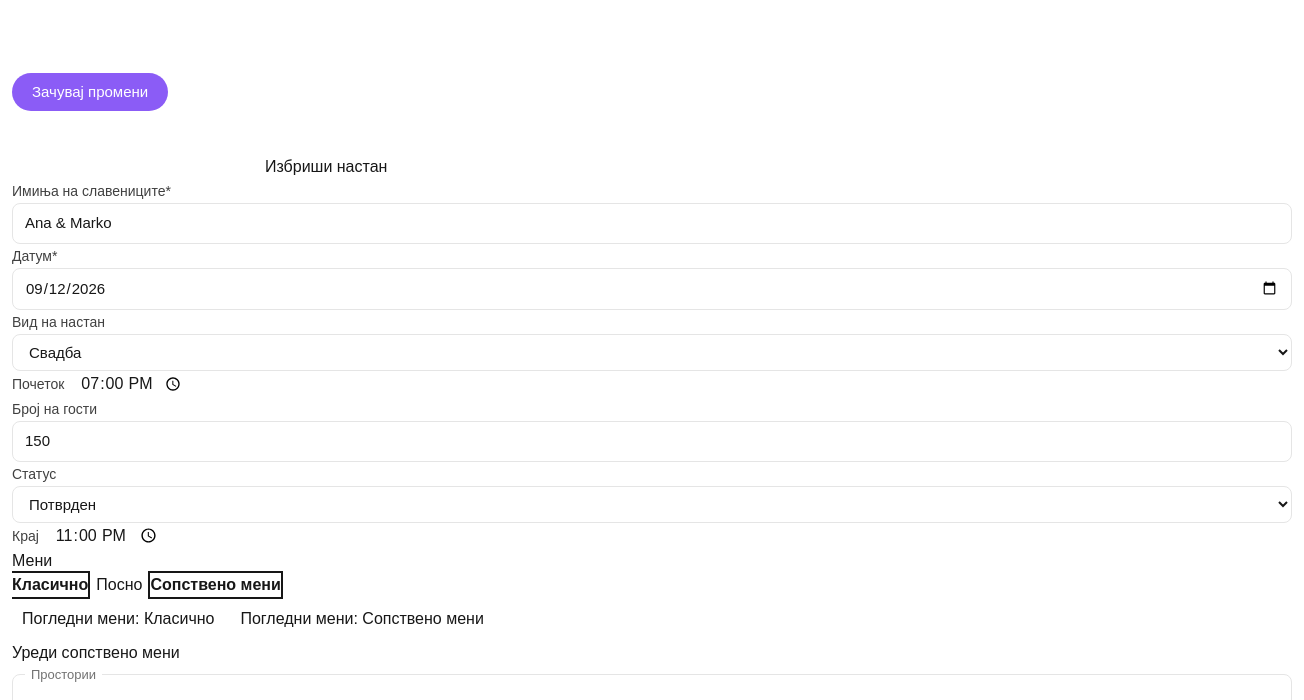
Test: EventEditForm › shows every menu as a chip with Погледни мени
Expected: the button "Погледни мени: Сопствено мени" is shown, [230,602,494,634]
Click the button "Погледни мени: Класично" at (118, 618), box [12,602,224,634]
(page scrolled)
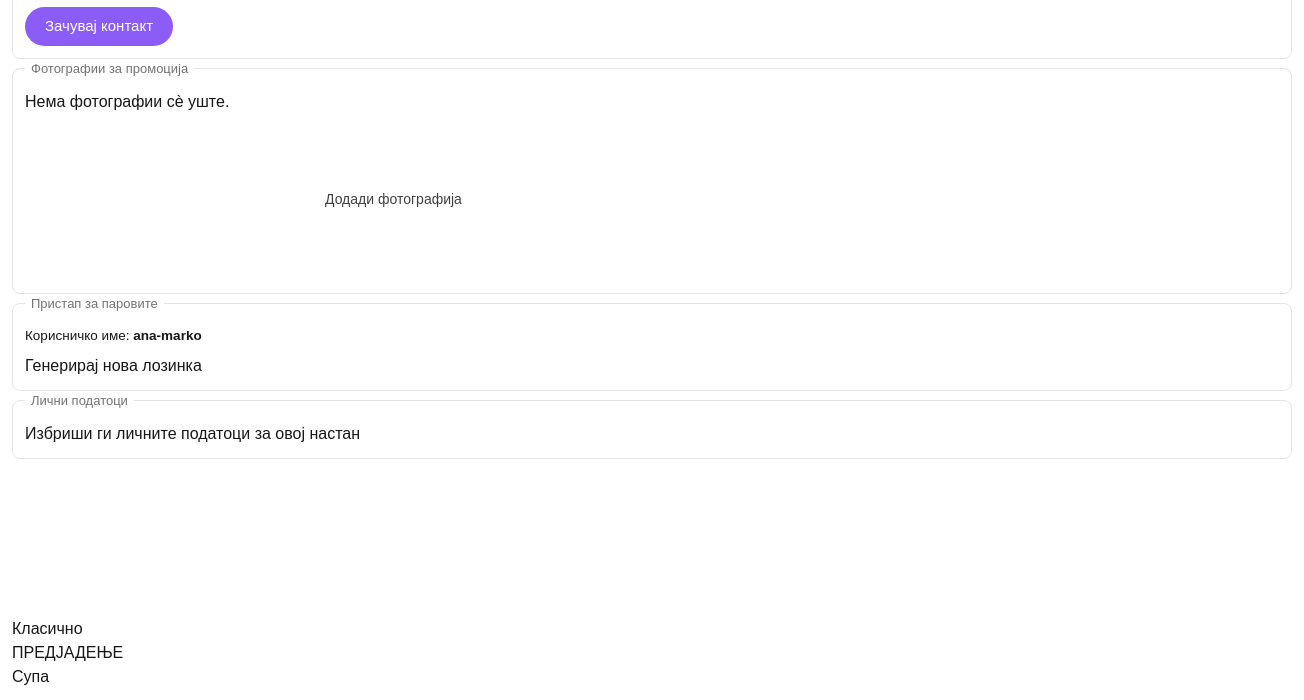
Result: the text "Супа" is shown at [12,668,49,685]
